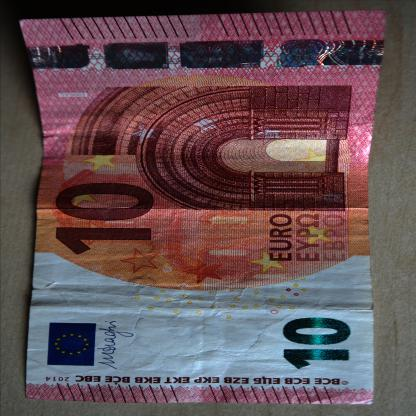euro_banknote: (9, 27, 405, 395)
